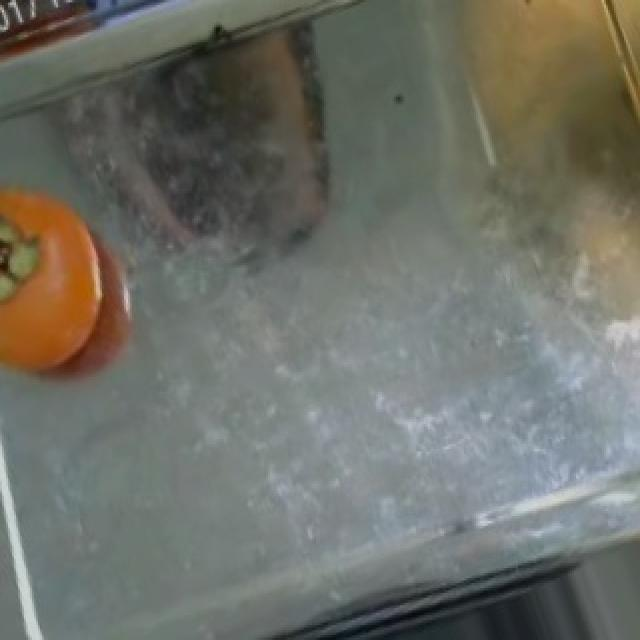Fruit: (0, 159, 122, 402)
